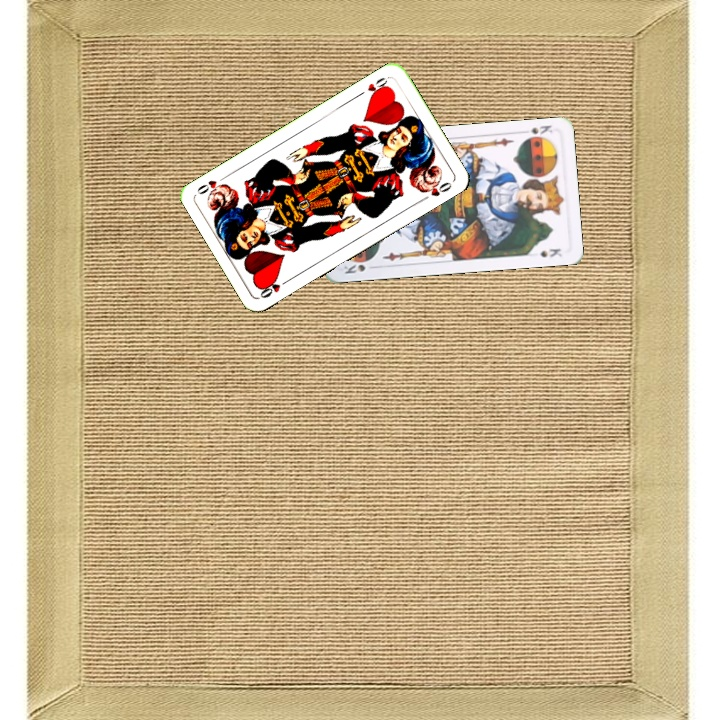HO: (256, 274, 293, 301), (355, 73, 391, 100)
SK: (517, 121, 554, 136), (340, 259, 368, 276)
